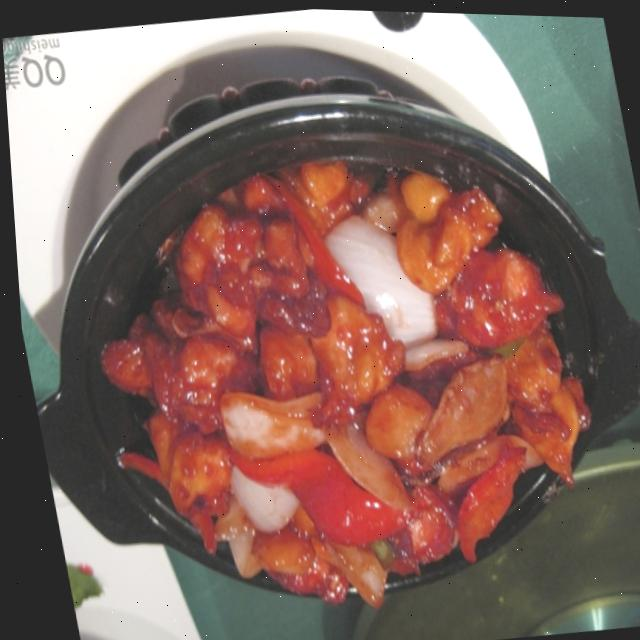鸡肉料理 含炸鸡: (2, 47, 640, 640)
